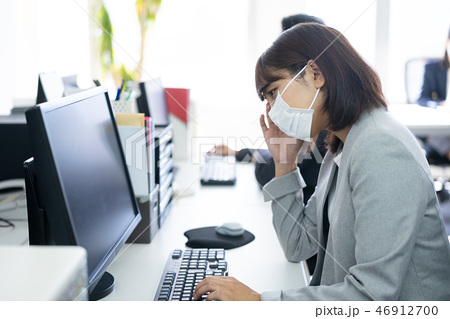mask: (264, 99, 318, 141)
